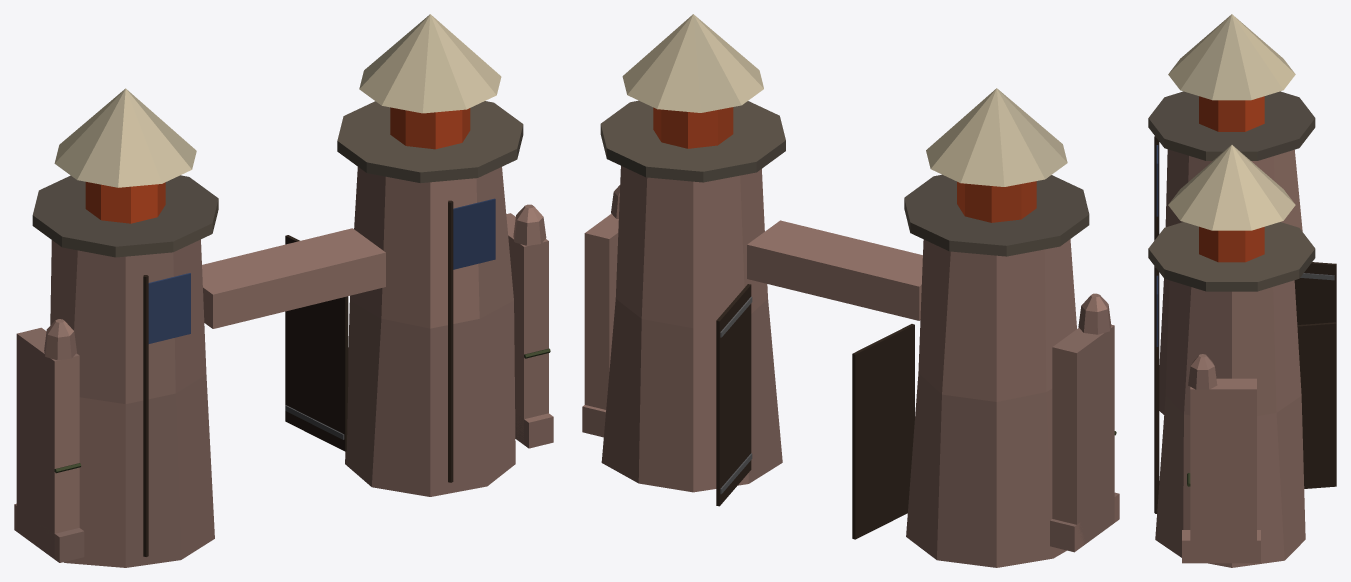
The model's file is walk_reef_gate.glb.
3 views of the same model, side by side, from view 1: azimuth 30°, elevation 25°; view 2: azimuth 150°, elevation 25°; view 3: azimuth 270°, elevation 25° (orthographic). The views are drawn at different scales.
Parts seen in each view (by area): view 1: walk_reef_gate, walk_reef_gate_roof, walk_reef_gate_door1; view 2: walk_reef_gate, walk_reef_gate_roof, walk_reef_gate_door0, walk_reef_gate_door1; view 3: walk_reef_gate, walk_reef_gate_roof, walk_reef_gate_door1, walk_reef_gate_door0.
Part boxes in pixels (left/top/right/bottom): walk_reef_gate: left=14, top=101, right=553, bottom=567; walk_reef_gate_roof: left=54, top=14, right=501, bottom=187; walk_reef_gate_door1: left=285, top=235, right=348, bottom=451; walk_reef_gate: left=582, top=100, right=1119, bottom=567; walk_reef_gate_roof: left=622, top=14, right=1067, bottom=186; walk_reef_gate_door0: left=852, top=324, right=914, bottom=539; walk_reef_gate_door1: left=716, top=284, right=752, bottom=506; walk_reef_gate: left=1148, top=91, right=1315, bottom=567; walk_reef_gate_roof: left=1168, top=14, right=1295, bottom=230; walk_reef_gate_door1: left=1297, top=322, right=1336, bottom=488; walk_reef_gate_door0: left=1294, top=262, right=1336, bottom=324.
Size of what is drawn, in the model's own units: 12.08 by 10.3 by 4.51.
Materials: 2 (2 with a texture image).
